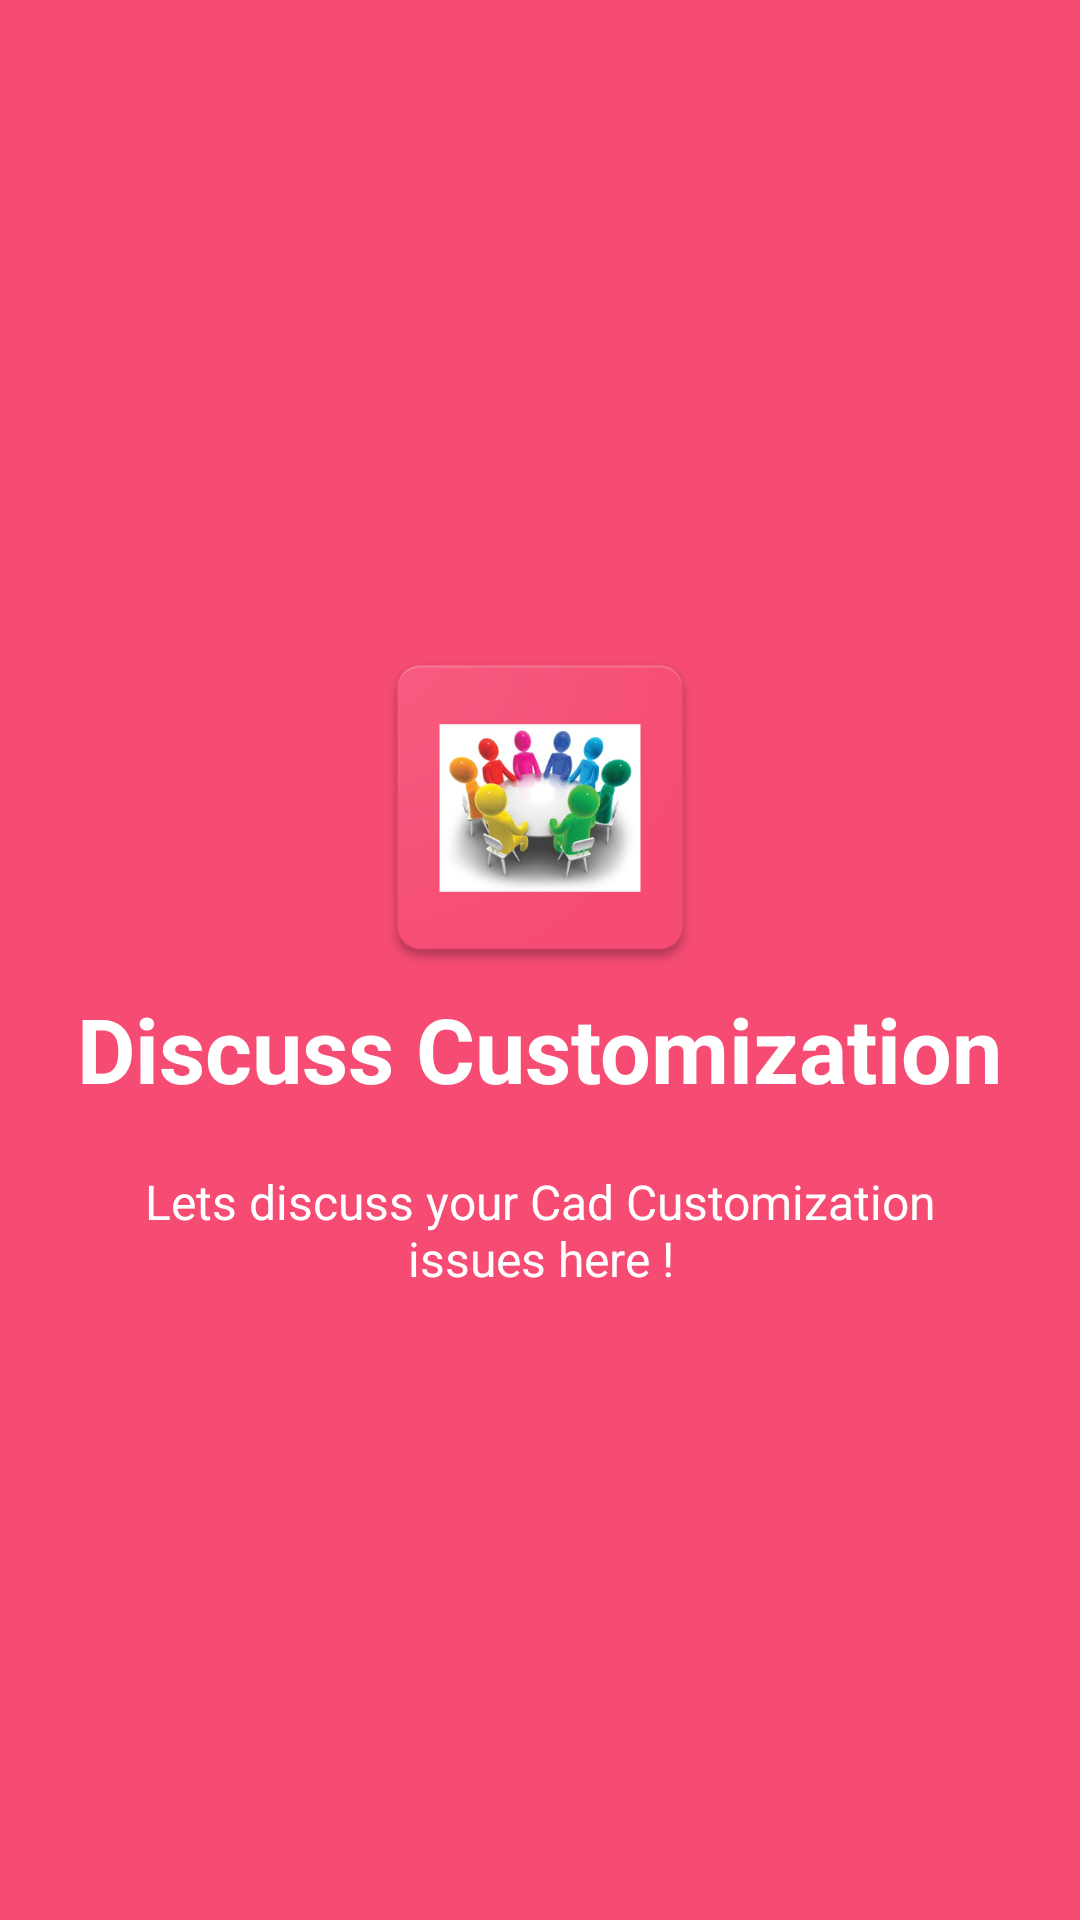

Screen size 1080px x 1920px. Icon name, then its center in pixels as [x,y]:
grop: [540,812]
